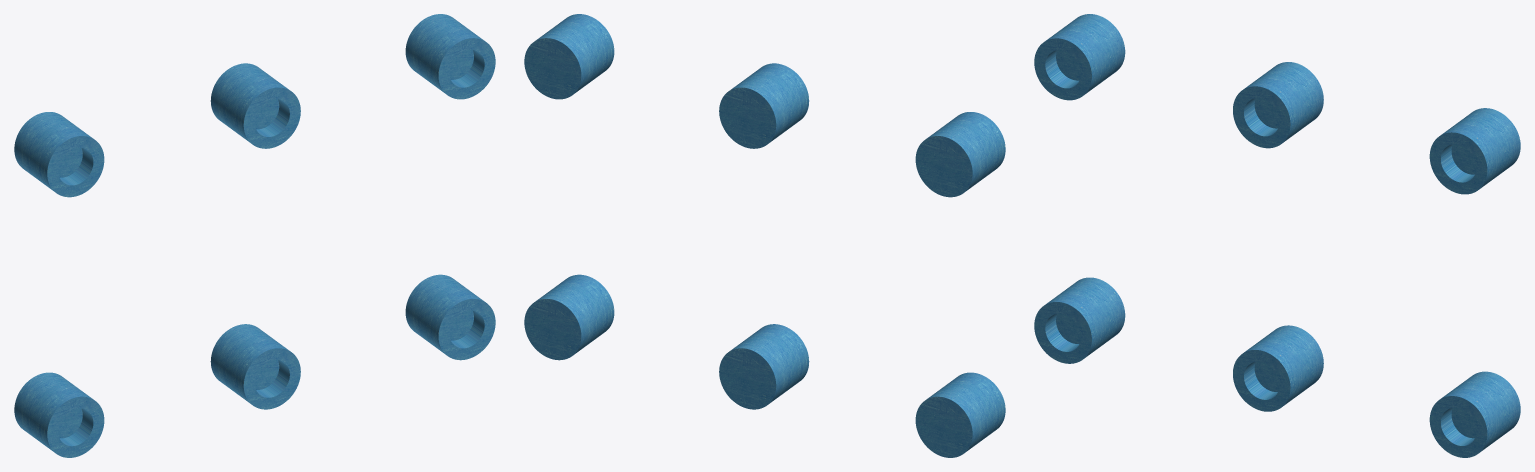
3 renders of one model, left to right at view 1: azimuth 30°, elevation 25°; view 2: azimuth 150°, elevation 25°; view 3: azimuth 330°, elevation 25°, orthographic.
Parts seen in each view (by area): view 1: Cylinder.043; view 2: Cylinder.043; view 3: Cylinder.043.
Boxes of the visible parts, x1=… form: Cylinder.043: x1=14, y1=14, x2=495, y2=457; Cylinder.043: x1=524, y1=14, x2=1005, y2=457; Cylinder.043: x1=1034, y1=14, x2=1520, y2=457.
Size of the model in its own units: 0.0142 by 0.00979 by 0.00181.
